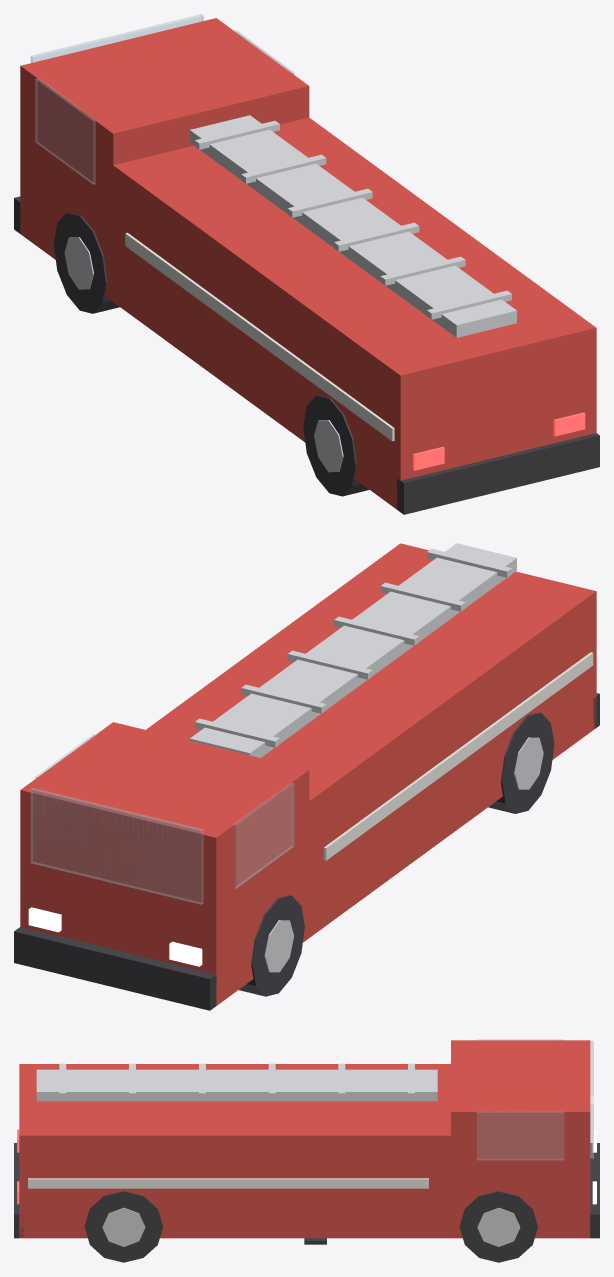
Rendered from fire_engine.glb.
3 renders of one model, top to bottom at view 1: azimuth 30°, elevation 25°; view 2: azimuth 150°, elevation 25°; view 3: azimuth 270°, elevation 25°, orthographic. The views are drawn at different scales.
Parts seen in each view (by area): view 1: body, wheel_fl, wheel_rl; view 2: body, wheel_fl, wheel_rl; view 3: body, wheel_rr, wheel_fr.
Part boxes in pixels (left/top/right/bottom): body: left=14, top=14, right=599, bottom=514; wheel_fl: left=53, top=212, right=119, bottom=313; wheel_rl: left=303, top=395, right=369, bottom=496; body: left=14, top=543, right=599, bottom=1010; wheel_fl: left=239, top=895, right=304, bottom=996; wheel_rl: left=488, top=712, right=554, bottom=813; body: left=14, top=1039, right=599, bottom=1238; wheel_rr: left=84, top=1191, right=162, bottom=1262; wheel_fr: left=459, top=1191, right=537, bottom=1262.
Bounding box in the file's own units: 2 × 2.02 × 6.72.
